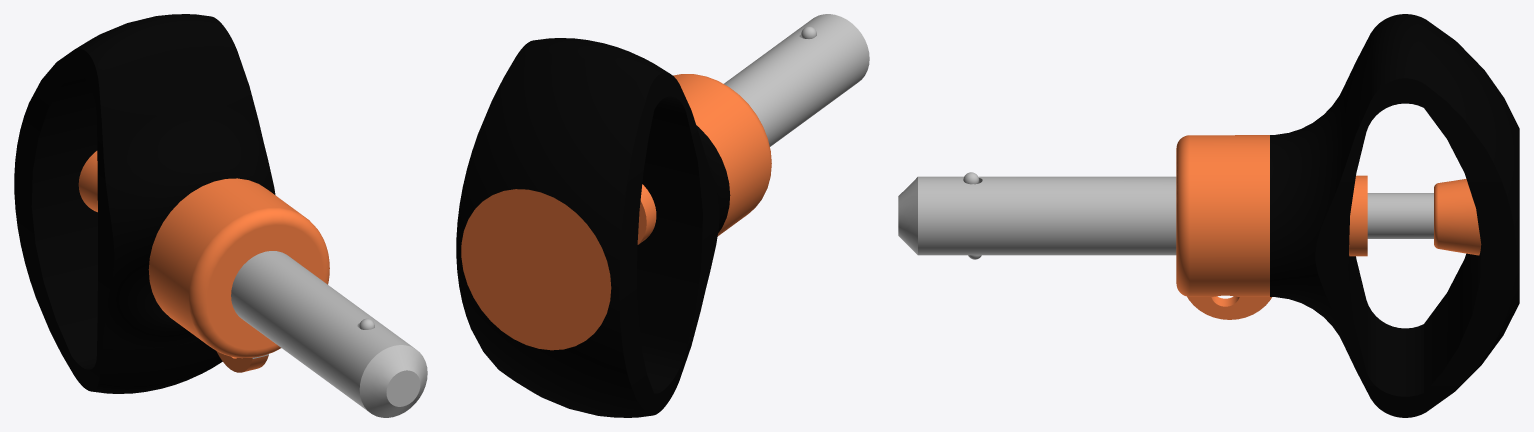
The picture shows the model from 3 angles, left to right: view 1: azimuth 30°, elevation 25°; view 2: azimuth 150°, elevation 25°; view 3: azimuth 270°, elevation 25°; orthographic projection.
Parts seen in each view (by area): view 1: _IPTH8-20; view 2: _IPTH8-20; view 3: _IPTH8-20.
Boxes of the visible parts, bbox=[...] form: _IPTH8-20: bbox=[14, 14, 427, 417]; _IPTH8-20: bbox=[456, 14, 869, 417]; _IPTH8-20: bbox=[898, 14, 1519, 417].
Size of the model in its own units: 0.0192 by 0.041 by 0.063.
